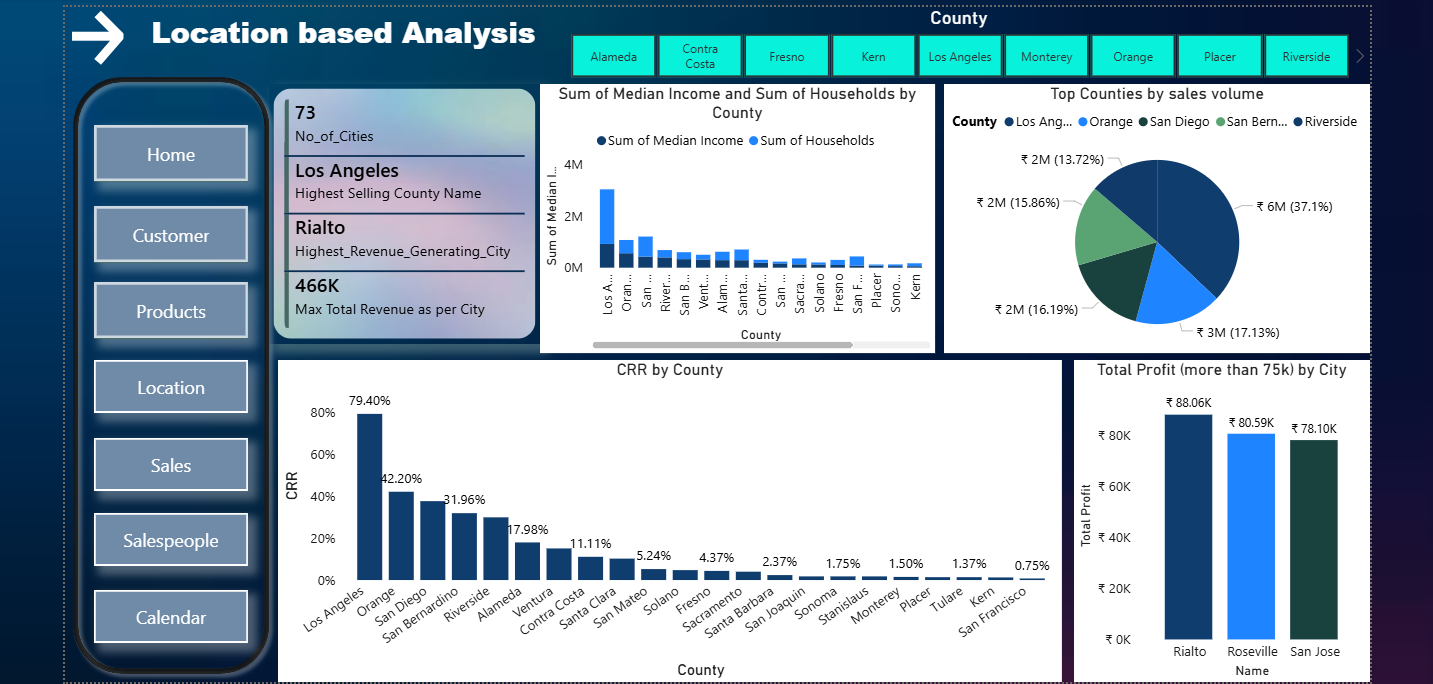

The page's visual inventory and layout, read from the dashboard file:
{"tool":"powerbi","page":{"name":"Location","canvas":[1450,750],"ordinal":3},"visuals":[{"type":"cardVisual","title":"KPIs","fields":{"Data":["Location_Data.No_of_Cities","Location_Data.Highest Selling County Name","Calendar.Highest_Revenue_Generating_City","Calendar.Total Sales max per City"]},"box":[226.2,85,301.2,288.8],"z":0},{"type":"pieChart","title":"Top Counties by sales volume","fields":{"Category":["Location_Data.County"],"Y":["Calendar.Total Revenue"]},"box":[976.2,85,473.8,298.8],"z":1000},{"type":"columnChart","title":"Total Profit (more than 75k) by City","fields":{"Y":["Calendar.Total Profit"],"Category":["Location_Data.Name"],"Series":["Location_Data.Name"]},"box":[1121.2,392.5,328.8,357.5],"z":2000},{"type":"shape","box":[0,68.8,236.2,681.2],"z":3000},{"type":"shape","box":[32.5,131.2,171.2,62.5],"z":4000},{"type":"shape","box":[32.5,221.2,171.2,62.5],"z":5000},{"type":"shape","box":[32.5,305,171.2,62.5],"z":6000},{"type":"shape","box":[32.5,392.5,171.2,58.8],"z":7000},{"type":"textbox","box":[88.8,0,438.8,68.8],"z":8000},{"type":"clusteredColumnChart","fields":{"Y":["Customer_Data.Customer Retention Rate"],"Category":["Location_Data.County"]},"box":[236.2,392.5,871.2,357.5],"z":9000},{"type":"slicer","title":"County","fields":{"Values":["Location_Data.County"]},"box":[536.2,0,913.8,85],"z":10000},{"type":"columnChart","fields":{"Y":["Sum(Location_Data.Median Income)","Sum(Location_Data.Households)"],"Category":["Location_Data.County"]},"box":[527.5,85,438.8,298.8],"z":11000},{"type":"shape","box":[32.5,478.8,171.2,58.8],"z":12000},{"type":"shape","box":[32.5,562.5,171.2,58.8],"z":13000},{"type":"shape","box":[32.5,647.5,171.2,58.8],"z":14000},{"type":"actionButton","box":[0,0,77.5,68.8],"z":16000}]}

Visuals, with their boxes in screenshot pixels (x1, y1, x2, y2):
"KPIs" cardVisual: Rect(267, 80, 537, 339)
"Top Counties by sales volume" pieChart: Rect(940, 80, 1365, 348)
"Total Profit (more than 75k) by City" columnChart: Rect(1070, 356, 1365, 677)
shape: Rect(63, 66, 276, 677)
shape: Rect(93, 122, 246, 178)
shape: Rect(93, 202, 246, 258)
shape: Rect(93, 278, 246, 334)
shape: Rect(93, 356, 246, 409)
textbox: Rect(143, 4, 537, 66)
clusteredColumnChart - Customer_Data.Customer Retention Rate x Location_Data.County: Rect(276, 356, 1058, 677)
"County" slicer: Rect(545, 4, 1365, 80)
columnChart - Sum(Location_Data.Median Income) x Sum(Location_Data.Households): Rect(537, 80, 931, 348)
shape: Rect(93, 434, 246, 486)
shape: Rect(93, 509, 246, 562)
shape: Rect(93, 585, 246, 638)
actionButton: Rect(63, 4, 133, 66)
